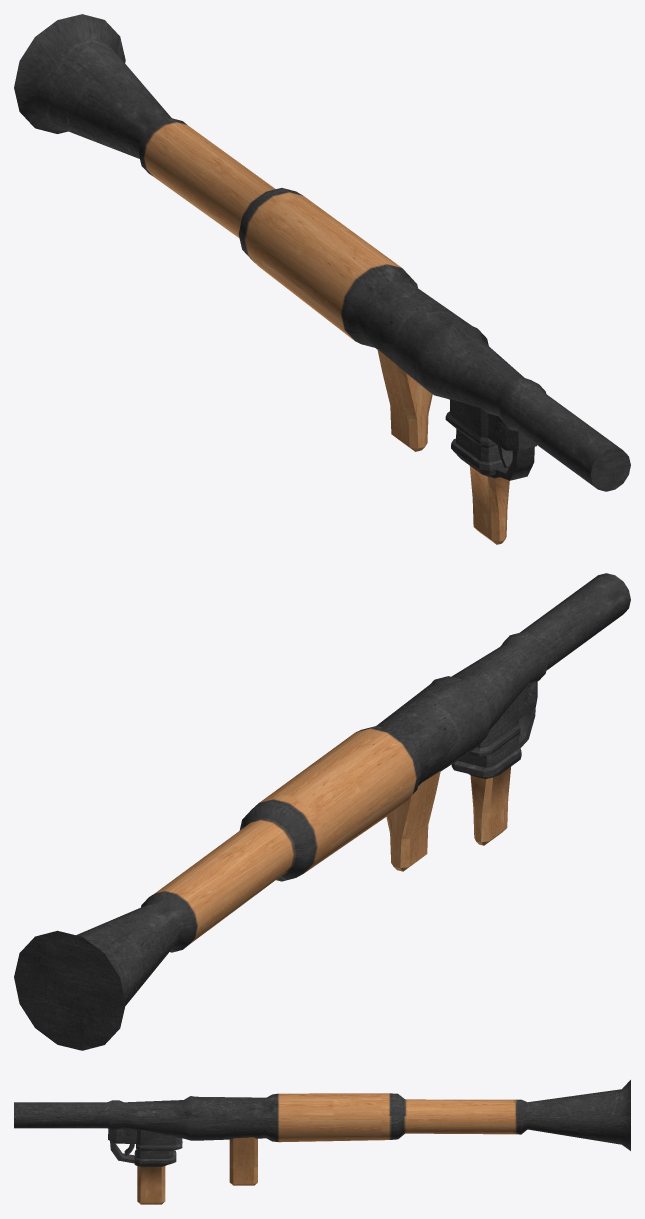
File: RPG.FBX
3 views of the same model, one above another, from view 1: azimuth 30°, elevation 25°; view 2: azimuth 150°, elevation 25°; view 3: azimuth 270°, elevation 25° (orthographic). The views are drawn at different scales.
Parts seen in each view (by area): view 1: RPG; view 2: RPG; view 3: RPG.
Boxes of the visible parts, left/top/right/bottom form: RPG: left=14, top=14, right=630, bottom=544; RPG: left=14, top=573, right=630, bottom=1050; RPG: left=14, top=1080, right=630, bottom=1204.
Bounding box in the file's own units: 16.01 × 29.1 × 134.
Materials: 1 (1 with a texture image).
